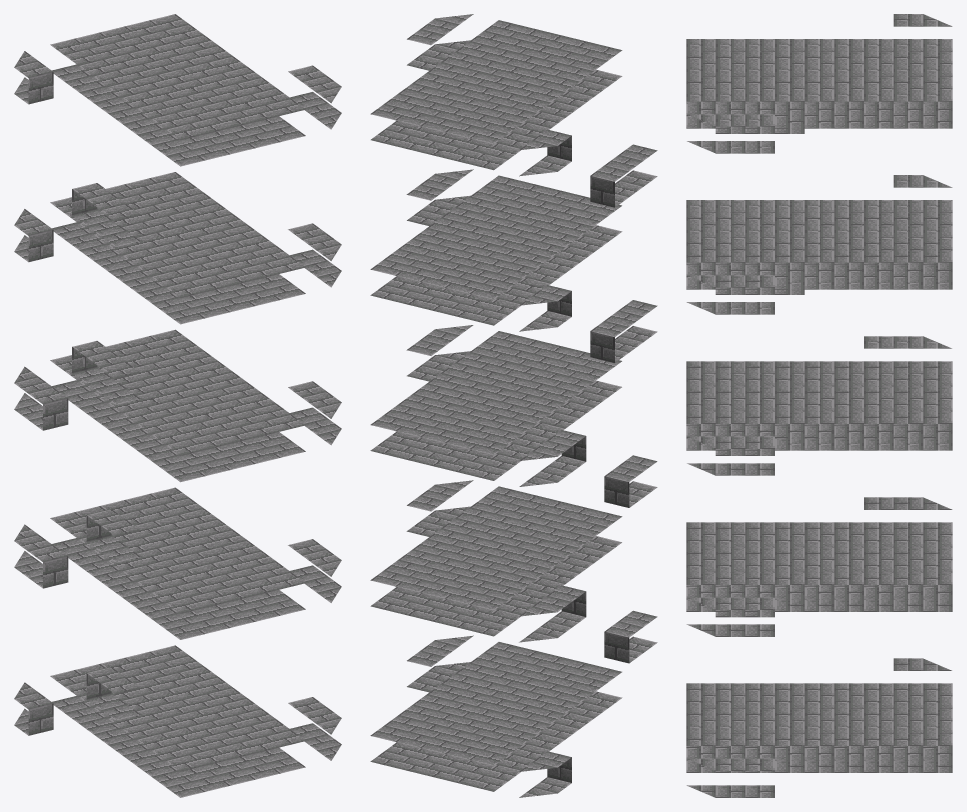
File: Stone_Bricks_Chunk_5_20.fbx
3 renders of one model, left to right at view 1: azimuth 30°, elevation 25°; view 2: azimuth 150°, elevation 25°; view 3: azimuth 270°, elevation 25°, orthographic. The views are drawn at different scales.
Visible parts, largest first — view 1: Stone_Bricks_Chunk_5_20; view 2: Stone_Bricks_Chunk_5_20; view 3: Stone_Bricks_Chunk_5_20.
Boxes of the visible parts, x1=… form: Stone_Bricks_Chunk_5_20: x1=14, y1=14, x2=341, y2=797; Stone_Bricks_Chunk_5_20: x1=370, y1=14, x2=657, y2=797; Stone_Bricks_Chunk_5_20: x1=686, y1=14, x2=952, y2=797.
Size of the model in its own units: 900 by 2500 by 900.
1 material, 1 textured.
